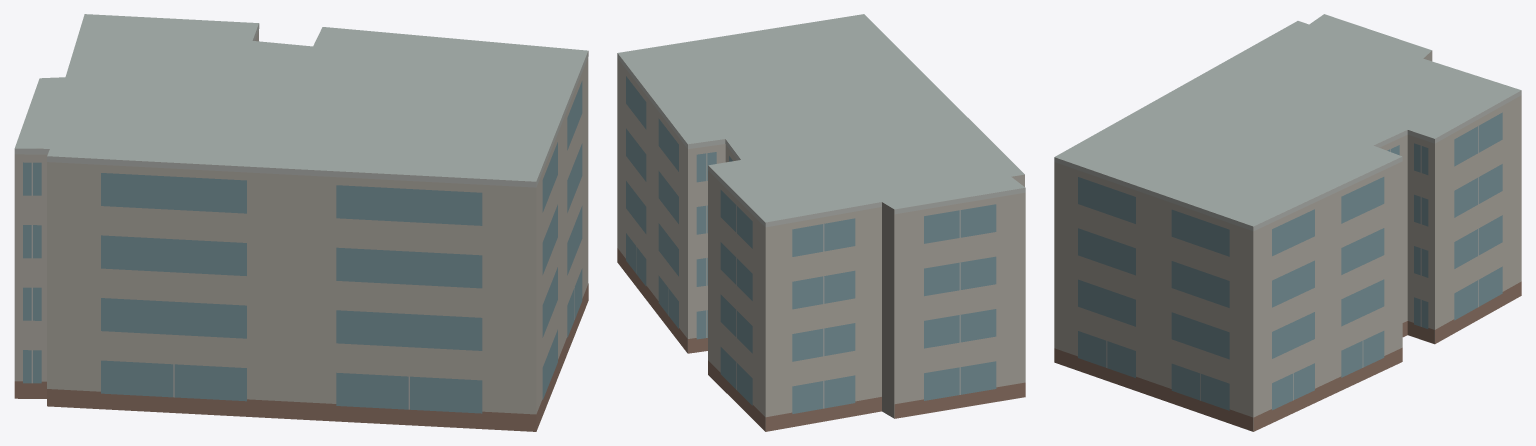
File: survey-upis-32784839.glb
The picture shows the model from 3 angles, left to right: view 1: azimuth 30°, elevation 25°; view 2: azimuth 150°, elevation 25°; view 3: azimuth 270°, elevation 25°; orthographic projection. The views are drawn at different scales.
Parts seen in each view (by area): view 1: survey-upis-32784839.tmp; view 2: survey-upis-32784839.tmp; view 3: survey-upis-32784839.tmp.
Boxes of the visible parts, left/top/right/bottom form: survey-upis-32784839.tmp: left=14, top=14, right=588, bottom=431; survey-upis-32784839.tmp: left=617, top=14, right=1025, bottom=431; survey-upis-32784839.tmp: left=1054, top=14, right=1521, bottom=431.
Bounding box in the file's own units: 23.1 × 10.4 × 21.47.
